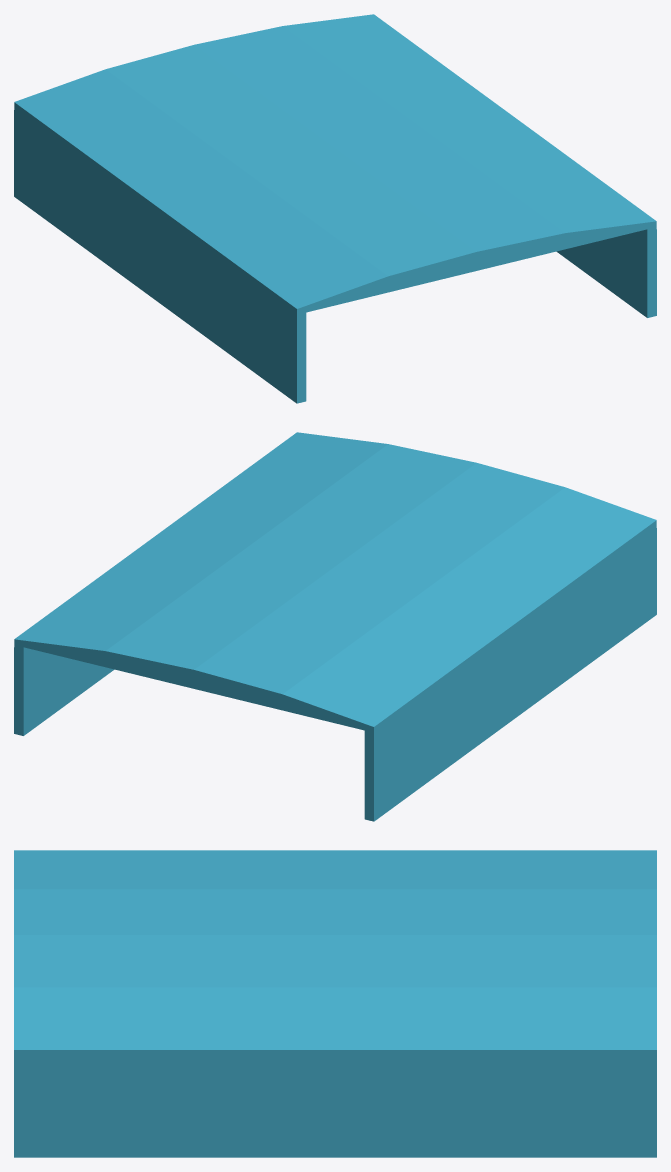
Rendered from Itr_Bed_Single_Blanket_07.FBX.
The picture shows the model from 3 angles, top to bottom: view 1: azimuth 30°, elevation 25°; view 2: azimuth 150°, elevation 25°; view 3: azimuth 270°, elevation 25°; orthographic projection. The views are drawn at different scales.
Visible parts, largest first — view 1: Itr_Bed_Single_Blanket_07; view 2: Itr_Bed_Single_Blanket_07; view 3: Itr_Bed_Single_Blanket_07.
Part boxes in pixels (x1,y1,x2,y2): Itr_Bed_Single_Blanket_07: [14, 14, 656, 403]; Itr_Bed_Single_Blanket_07: [14, 432, 656, 821]; Itr_Bed_Single_Blanket_07: [14, 850, 656, 1157].
Size of the model in its own units: 47.68 by 13.65 by 64.86.
